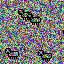sheep: (5, 47, 19, 59), (18, 9, 32, 20), (27, 14, 41, 25), (38, 50, 52, 61)
